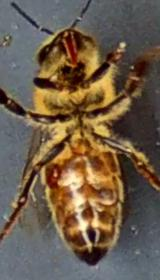varroa_mite: (42, 162, 64, 184)
